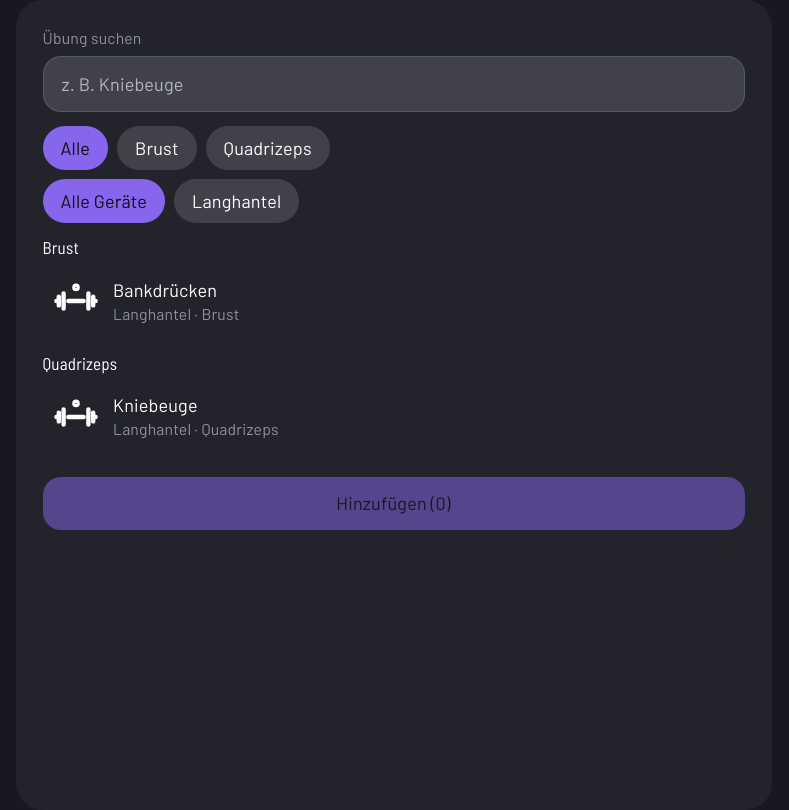
Test case: ExercisePicker › toggles a selection and updates the Hinzufügen count
Click the button "Bankdrücken Langhantel · Brust" at x=76, y=301, box [42, 263, 744, 339]
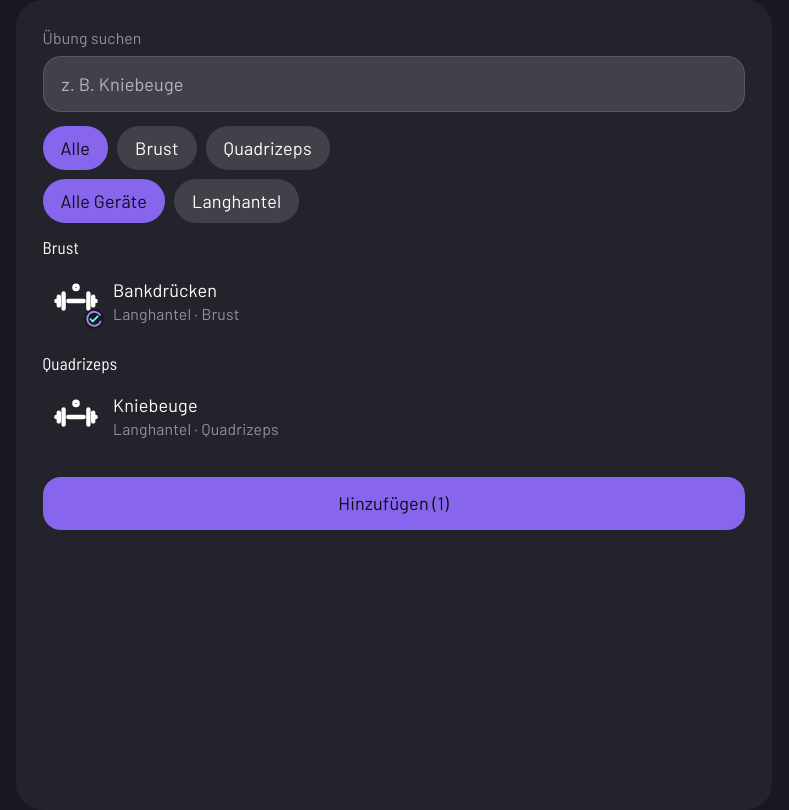
Result: the button "Hinzufügen (1)" is enabled at [42, 477, 744, 530]
